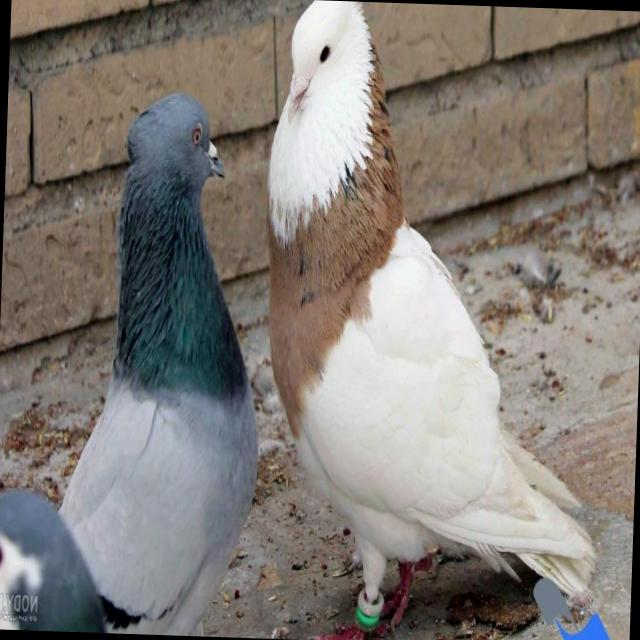bird: (248, 0, 632, 640), (54, 77, 276, 638)
